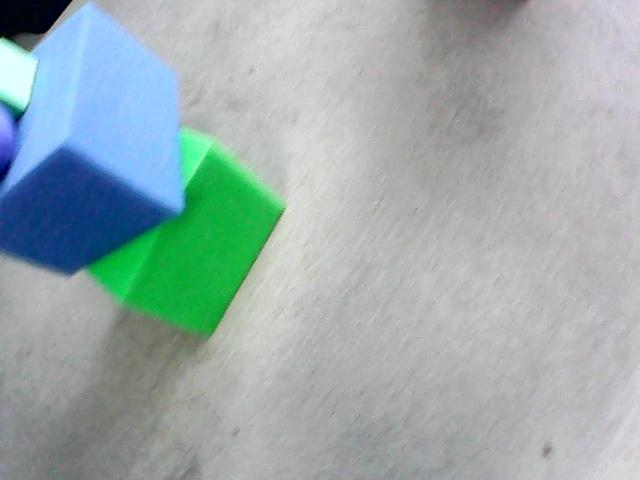blue_block: (0, 3, 183, 273)
